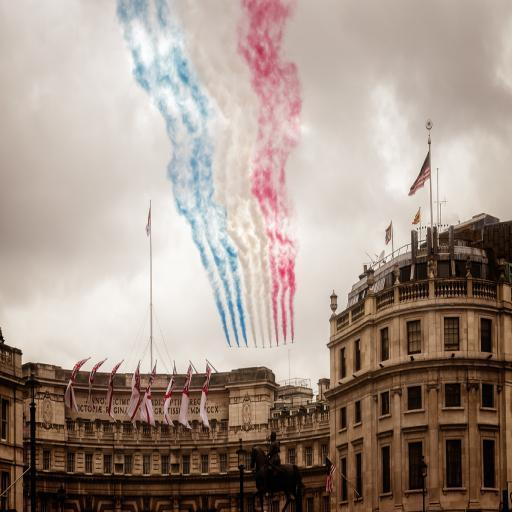horse: (250, 446, 302, 512)
